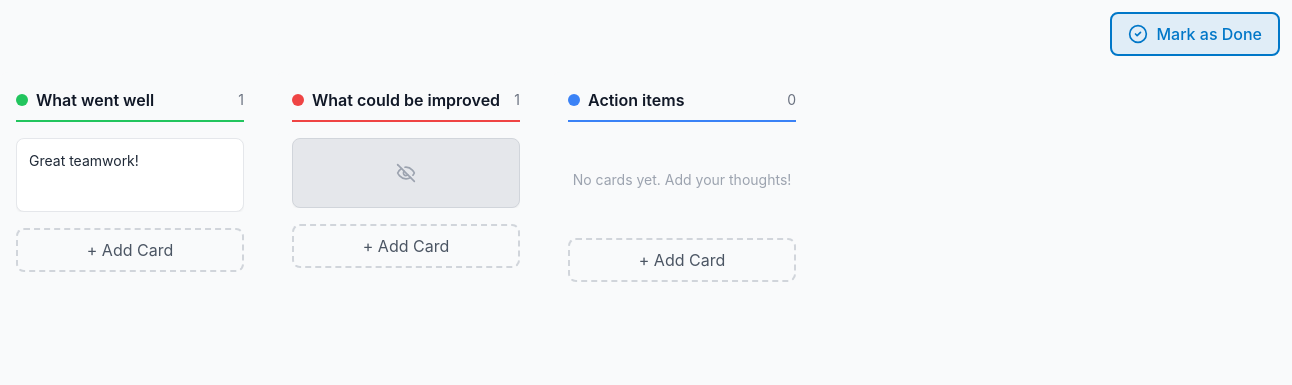
Test: BrainstormStage › Adding Cards › shows input form when Add Card clicked
Click the button "+ Add Card" below "Great teamwork!": (130, 250) [16,228,244,272]
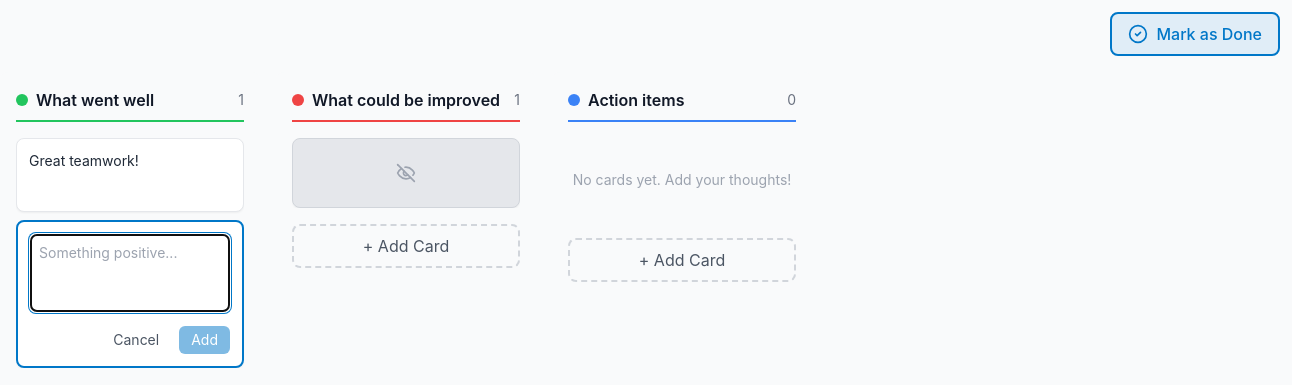
Expected: the button "Add" is shown, [179,326,230,354]
Expected: the text box with placeholder "Something positive..." is shown, [30,234,230,312]
Expected: the button "Cancel" is shown, [101,326,171,354]
